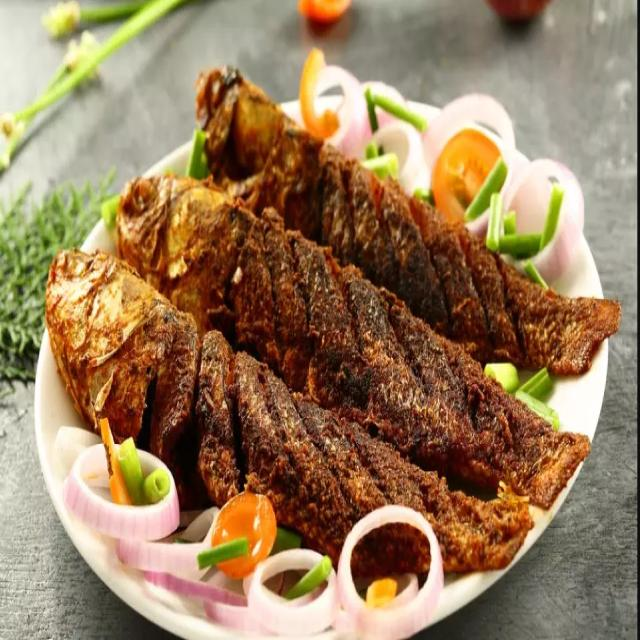Peixe: (43, 61, 620, 582)
